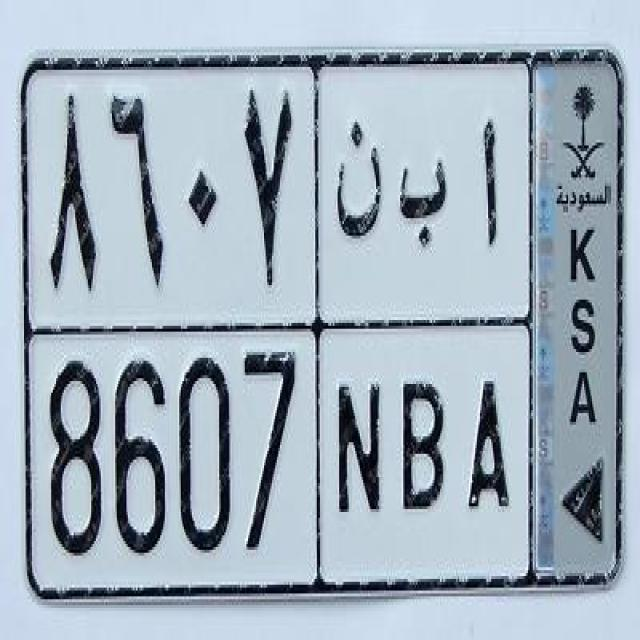license_plate: (17, 48, 627, 600)
